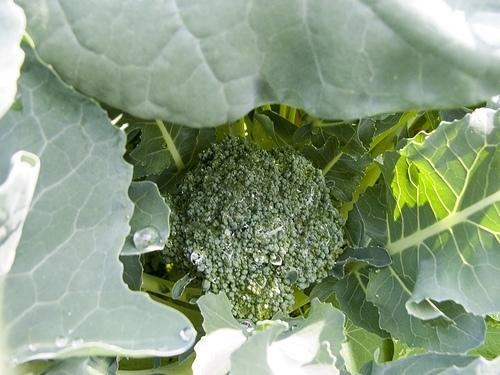broccoli: (156, 132, 347, 324)
